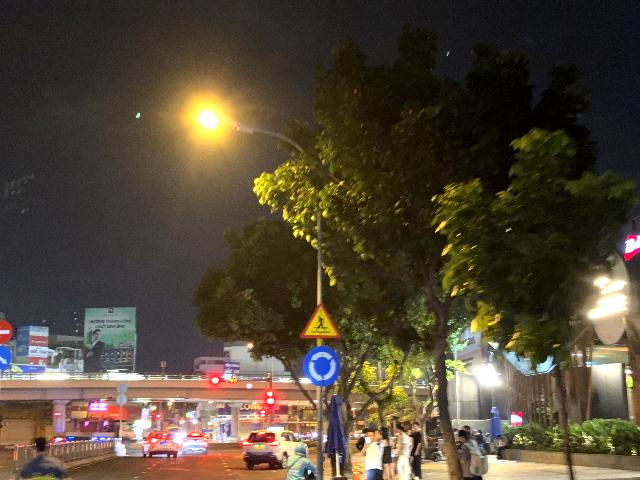duong-nguoi-di-bo-cat-ngang: (300, 303, 342, 338)
noi-giao-nhau-chay-theo-vong-xuyen: (304, 346, 341, 387)
